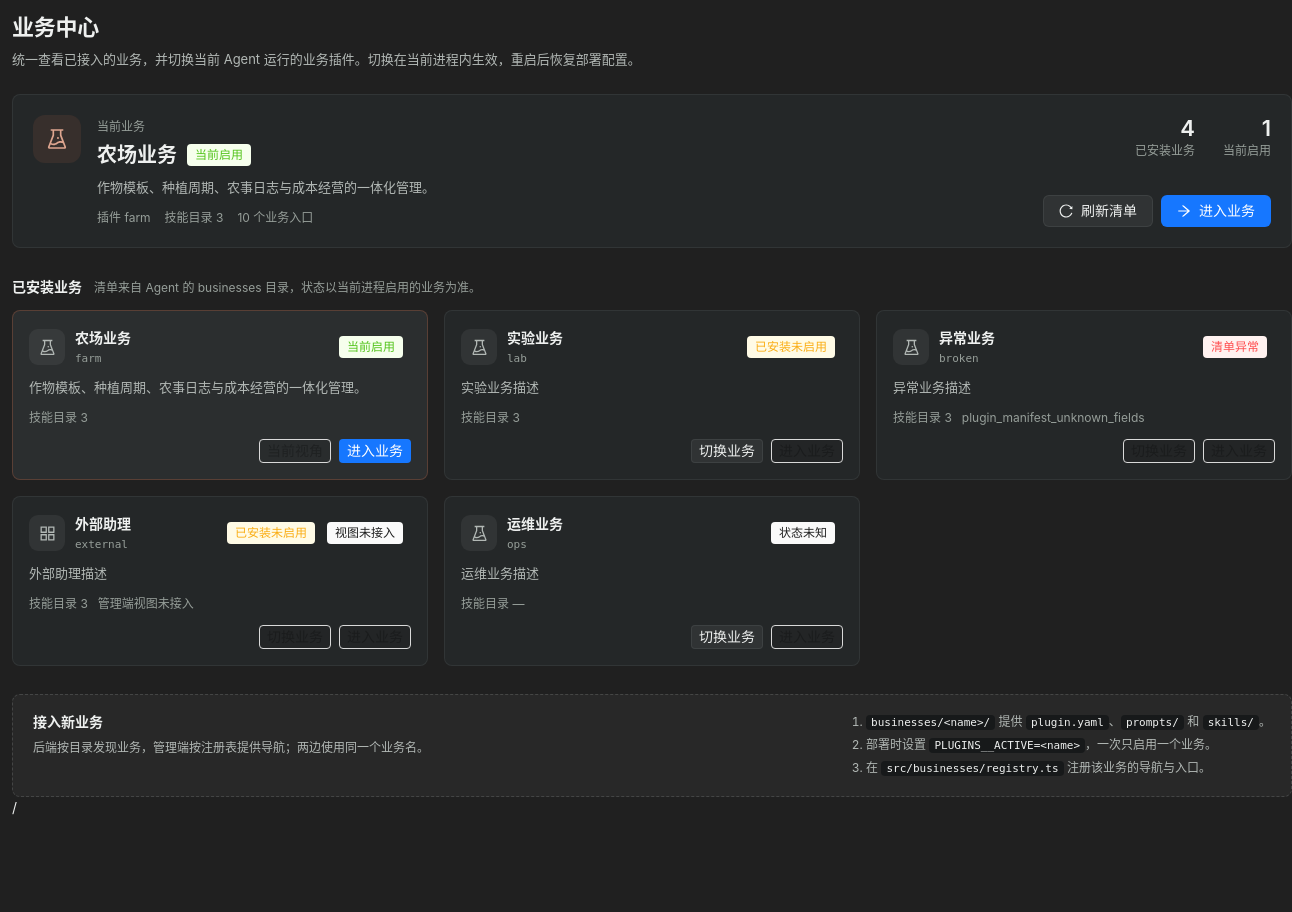
Scenario: BusinessCenter › 从当前视角概览进入业务首页
The width and height of the screenshot is (1292, 912).
Step 1. Click the button "进入业务" in the row of "个业务入口" → (1216, 211), box [1161,195,1271,227]
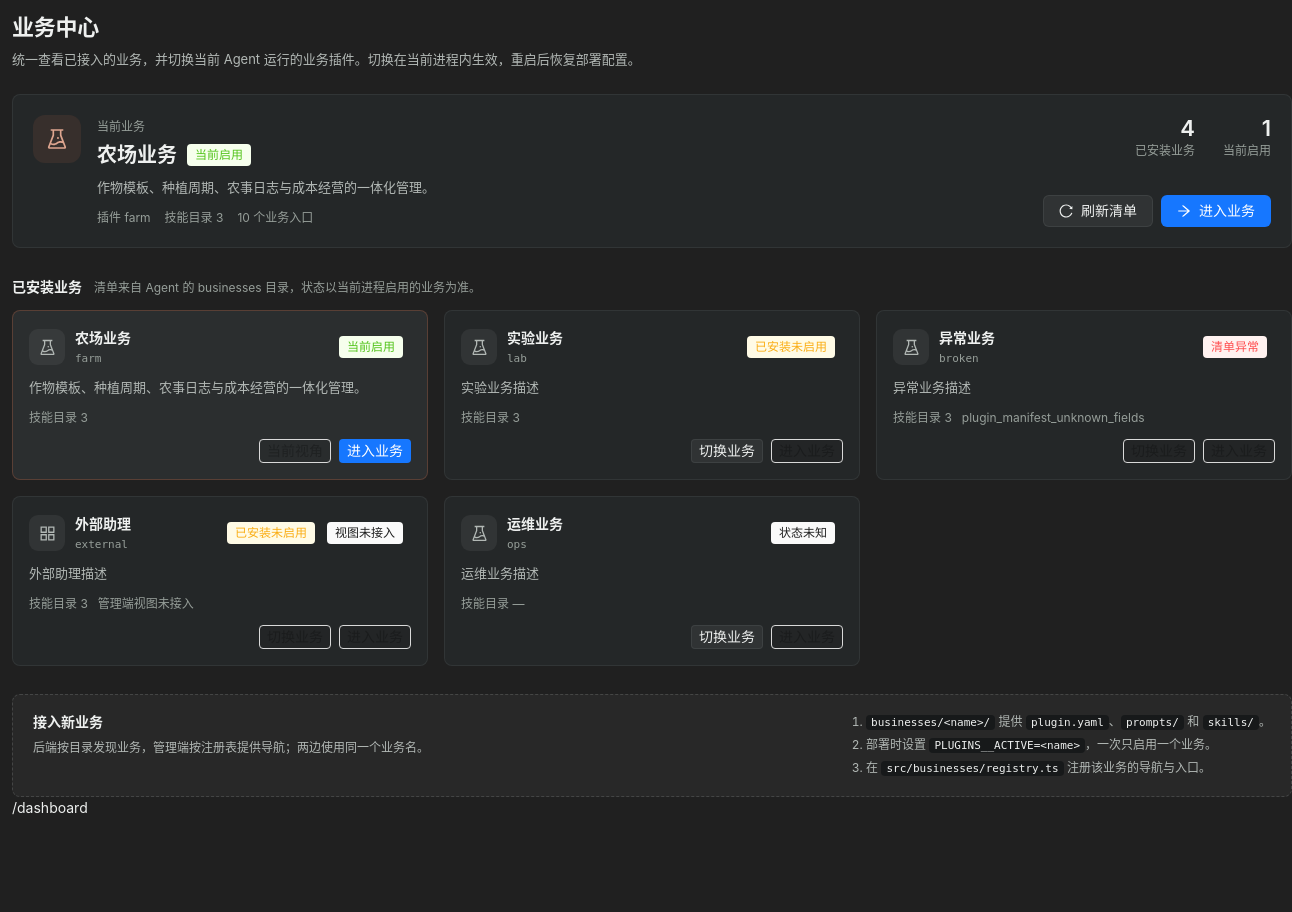
Now the text with test id "location" reads "/dashboard", box [12,799,88,816]
